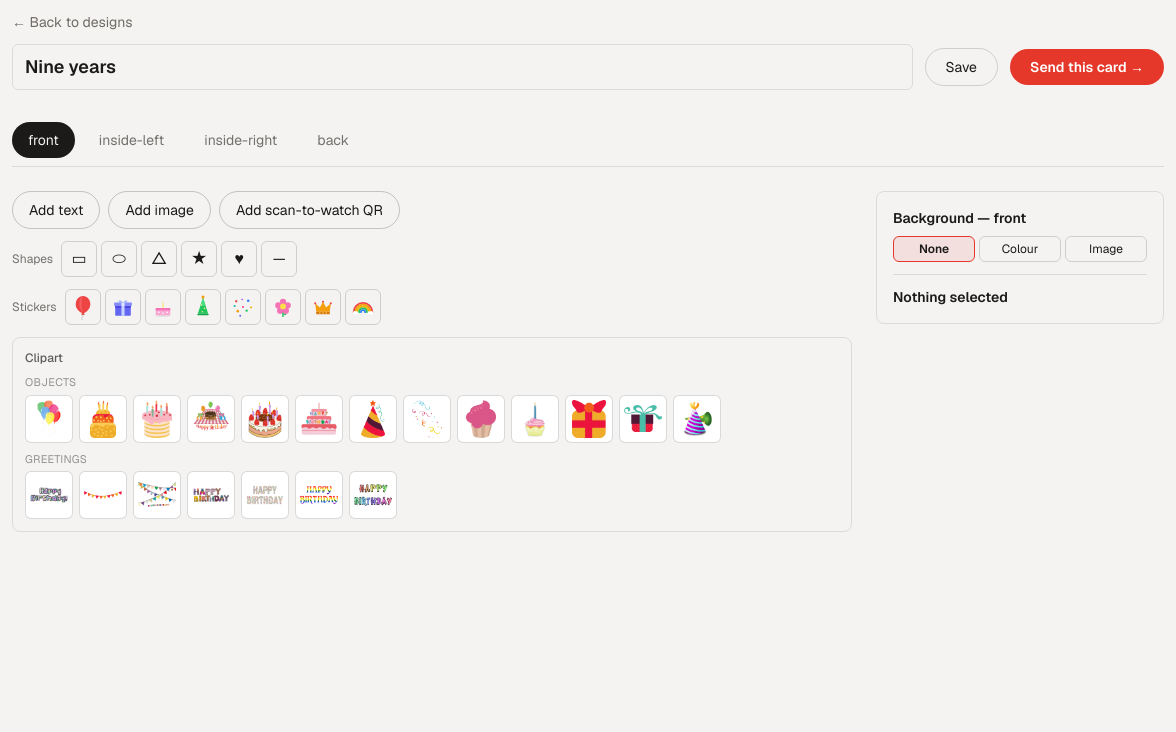
Test case: the editor's backup claim › when the browser refuses to store the draft › does not claim the work is backed up
Replace the text in the field named "Design name" with "Ten years" at (462, 67), box x1=12 y1=44 x2=912 y2=90
Wait 1500 ms
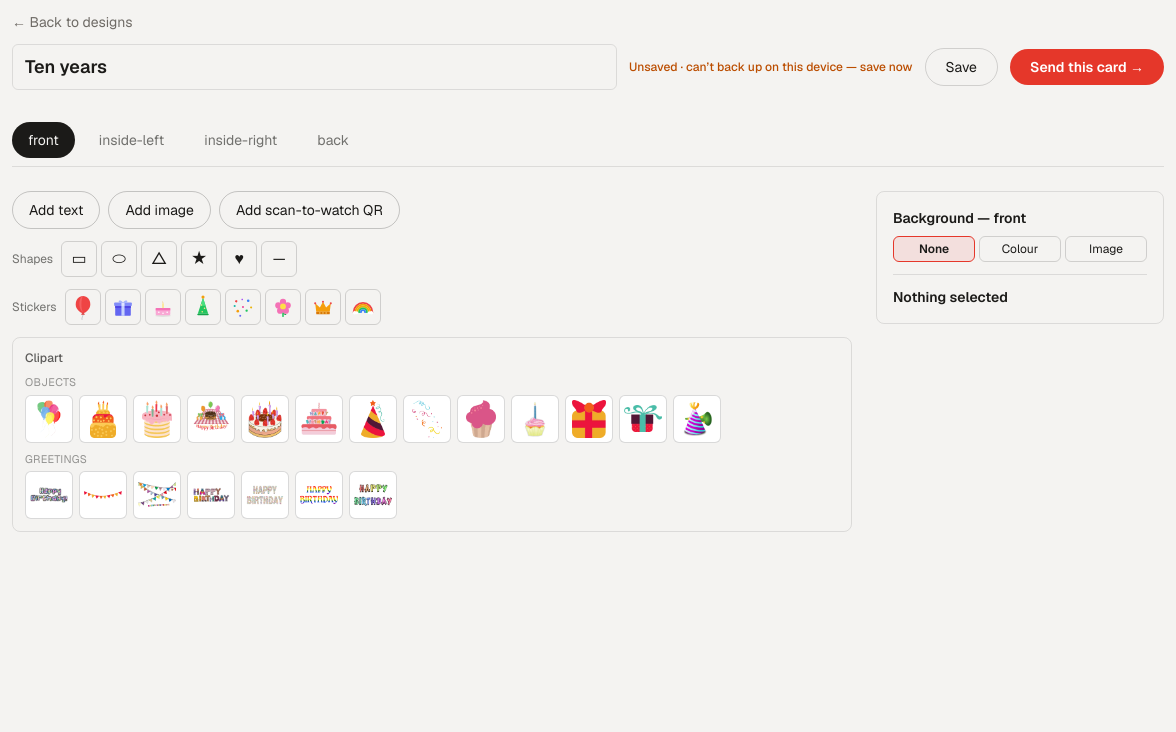
Expected: the text "Unsaved · can’t back up on this device — save now" is shown, x1=629 y1=59 x2=912 y2=75
